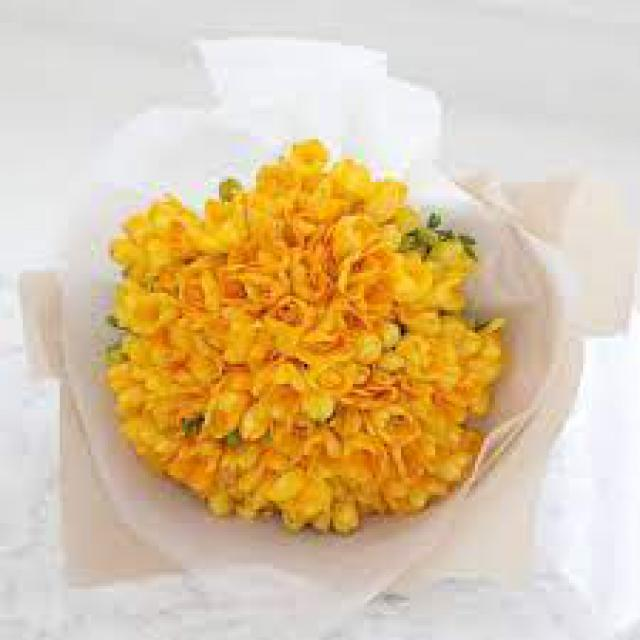freesia: (119, 174, 468, 506)
